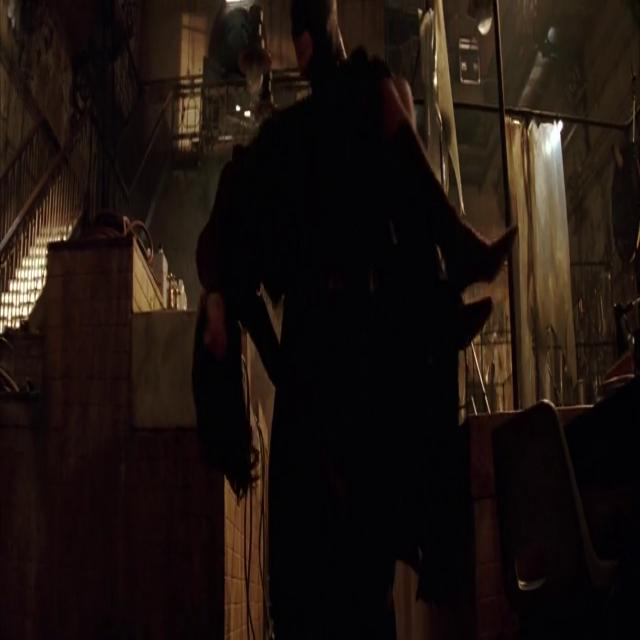People: (146, 149, 542, 461), (265, 0, 448, 640)
Table: (452, 301, 640, 640)
chair: (498, 372, 592, 638)
